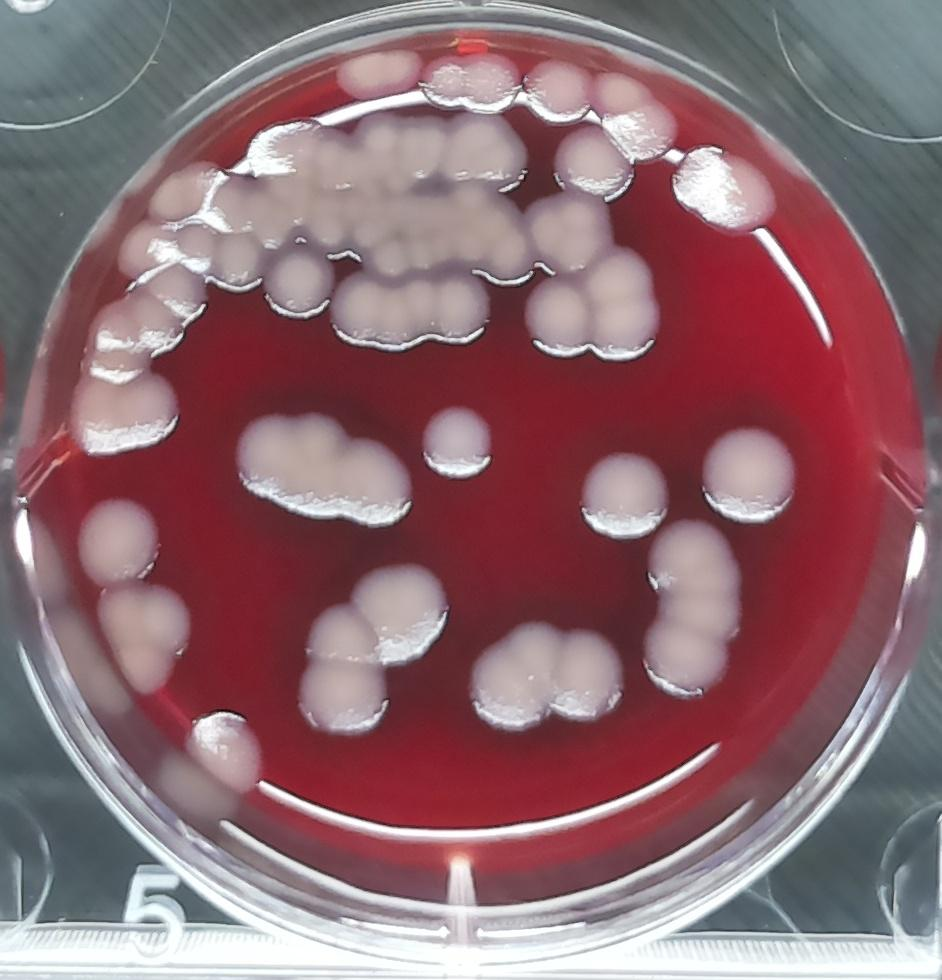bcereus: (293, 554, 453, 741), (233, 402, 415, 538), (462, 614, 630, 737), (641, 515, 744, 708), (85, 256, 205, 381), (330, 270, 492, 352), (90, 582, 194, 708), (667, 140, 785, 241), (695, 420, 799, 527), (71, 368, 187, 459), (568, 442, 674, 541), (585, 242, 663, 367), (524, 183, 617, 279), (73, 492, 163, 589), (182, 703, 270, 799), (451, 186, 534, 287), (596, 69, 679, 164), (350, 109, 442, 193), (442, 110, 533, 193), (550, 118, 637, 203), (419, 399, 499, 486), (422, 49, 522, 115), (240, 115, 327, 188), (258, 241, 339, 318), (520, 273, 590, 362), (520, 52, 597, 127), (331, 42, 422, 99), (146, 159, 218, 225), (208, 226, 272, 288), (114, 223, 180, 283)
